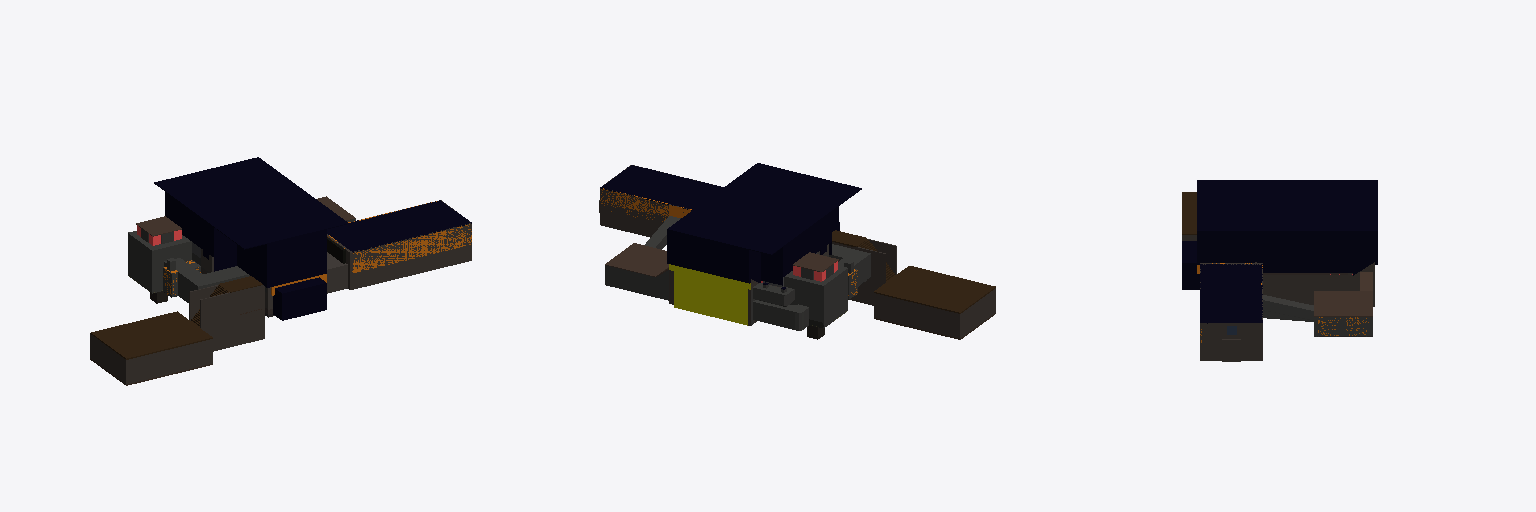
The model's file is testobj.obj.
The picture shows the model from 3 angles: view 1: azimuth 30°, elevation 25°; view 2: azimuth 150°, elevation 25°; view 3: azimuth 270°, elevation 25°; orthographic projection.
Parts seen in each view (by area): view 1: Brush939, Brush616, Brush1786, Brush635, Brush1736, Brush930, Brush1778, Brush913, Brush1688, Brush937, Brush1076, Brush933 (+5 smaller); view 2: Brush939, Brush1736, Brush273, Brush616, Brush926, Brush1790, Brush913, Brush446, Brush1076, Brush1746, Brush1553, Brush1774 (+5 smaller); view 3: Brush939, Brush922, Brush616, Brush911, Brush446, Brush967, Brush1571, Brush936, Brush1736, Brush1003.
Part boxes in pixels (x1,y1,x2,y2): Brush939: (154, 157, 348, 249); Brush616: (327, 200, 471, 252); Brush1786: (200, 285, 264, 351); Brush635: (353, 223, 471, 288); Brush1736: (90, 311, 212, 359); Brush930: (267, 230, 326, 287); Brush1778: (126, 339, 211, 384); Brush913: (165, 192, 213, 256); Brush1688: (352, 224, 471, 272); Brush937: (282, 284, 326, 319); Brush1076: (128, 234, 152, 293); Brush933: (237, 244, 266, 287); Brush939: (667, 163, 861, 254); Brush1736: (874, 266, 995, 313); Brush273: (674, 265, 747, 325); Brush616: (600, 165, 723, 210); Brush926: (667, 230, 748, 282); Brush1790: (875, 293, 960, 338); Brush913: (783, 212, 831, 276); Brush446: (605, 243, 668, 276); Brush1076: (823, 269, 847, 328); Brush1746: (832, 242, 885, 305); Brush1553: (605, 265, 655, 296); Brush1774: (961, 289, 994, 337); Brush939: (1197, 180, 1377, 231); Brush922: (1257, 232, 1352, 272); Brush616: (1200, 264, 1262, 323); Brush911: (1198, 232, 1256, 264); Brush446: (1314, 291, 1372, 316); Brush967: (1263, 275, 1359, 287); Brush1571: (1314, 317, 1371, 336); Brush936: (1353, 232, 1377, 275); Brush1736: (1182, 192, 1196, 234); Brush1003: (1263, 288, 1359, 295).
Size of the model in its own units: 4616 by 1240 by 2200.